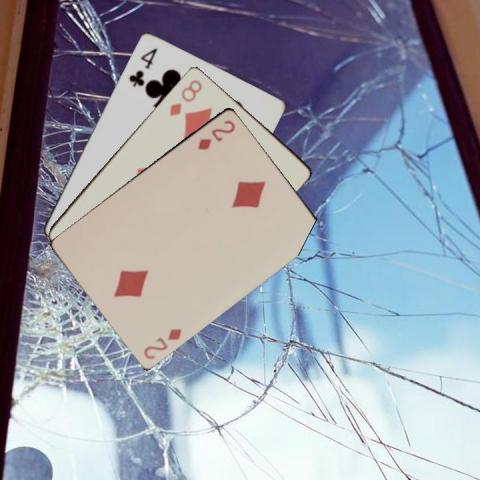2d: (141, 324, 183, 360), (194, 116, 236, 151)
4c: (125, 44, 159, 88)
8d: (166, 76, 203, 117)
